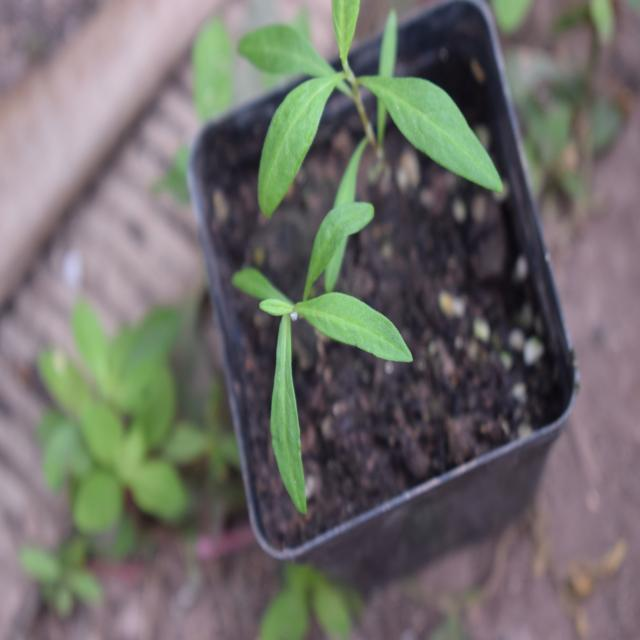white_smart_weed: (227, 172, 415, 528), (240, 0, 514, 226)
